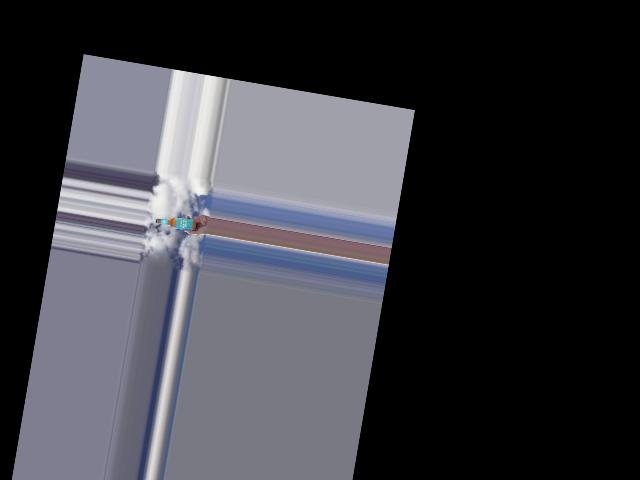beer: (154, 214, 197, 232)
